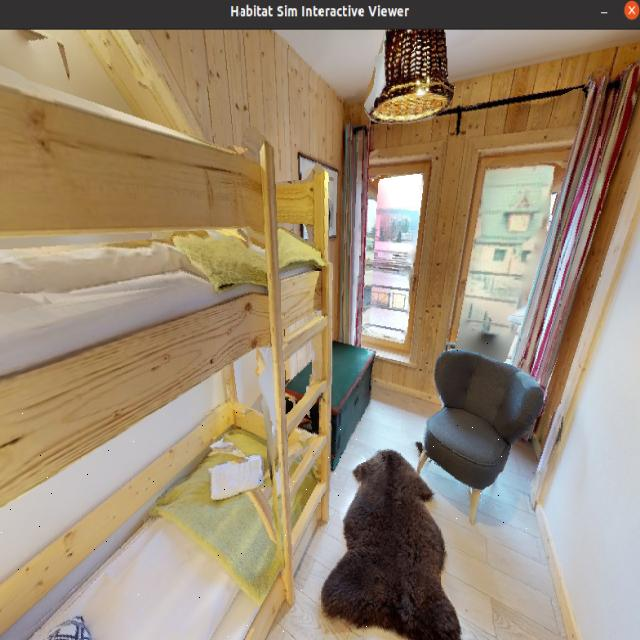bed: (0, 406, 375, 640)
sofa: (413, 327, 544, 532)
